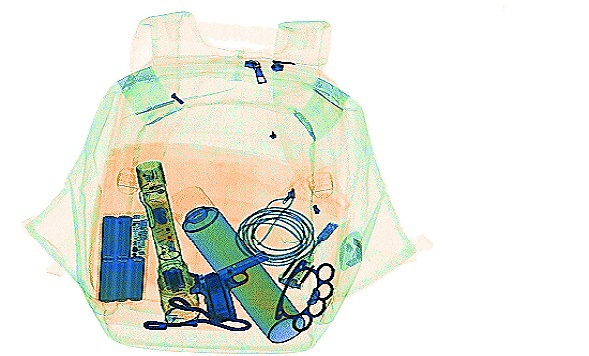powerbank: (96, 210, 148, 306)
pressure: (159, 183, 304, 345)
slingshot: (141, 295, 252, 331)
